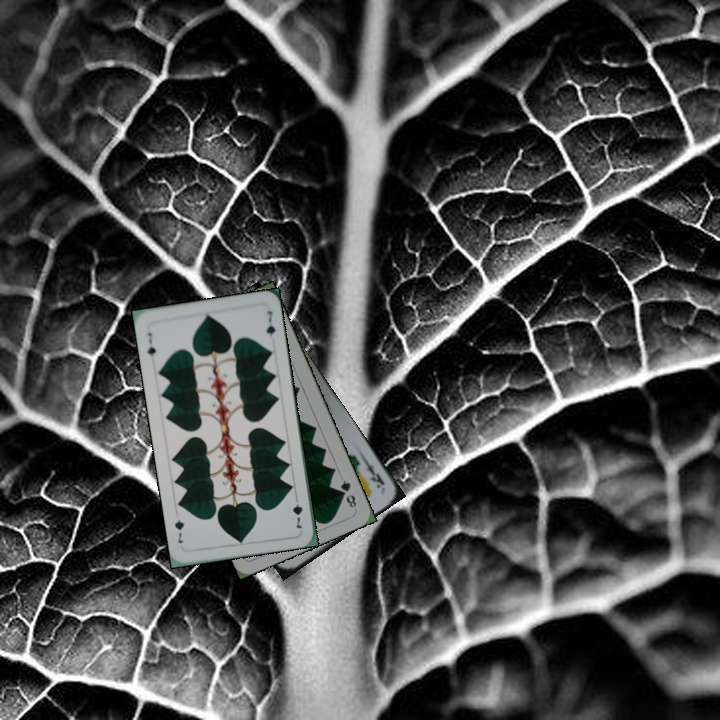EK: (360, 455, 387, 491)
G7: (289, 491, 305, 532), (143, 328, 159, 359)
G8: (336, 476, 359, 511)
